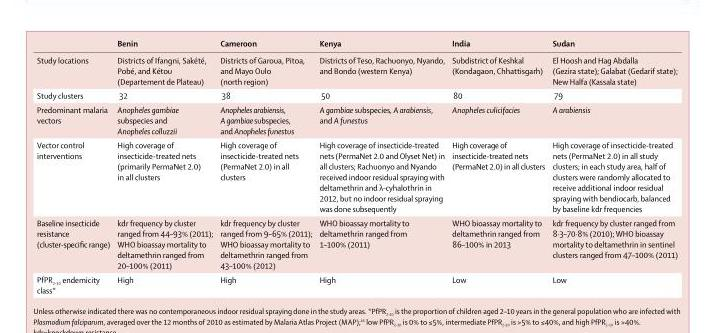table: (36, 36, 676, 294)
table column: (315, 36, 447, 294), (547, 36, 676, 294), (112, 36, 215, 294), (215, 36, 315, 294), (447, 36, 547, 294), (36, 36, 112, 294)
table column header: (36, 36, 676, 50)
table row: (36, 137, 676, 214), (36, 214, 676, 271), (36, 50, 676, 87), (36, 101, 676, 137), (36, 271, 676, 294), (36, 36, 676, 50), (36, 87, 676, 101)
